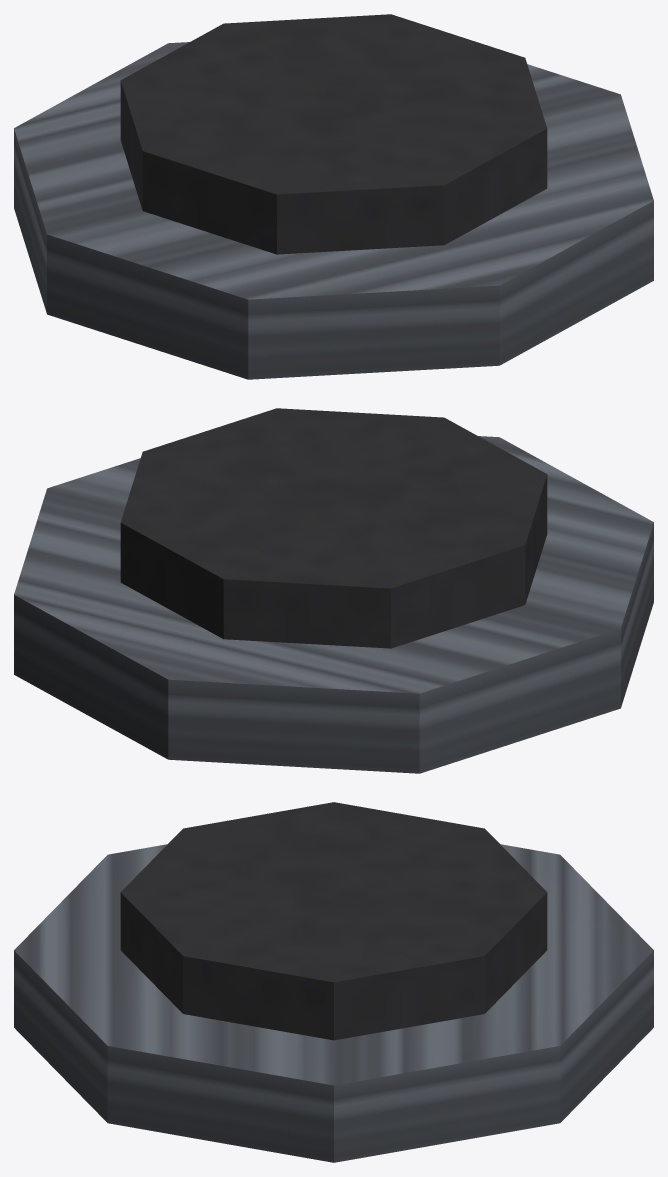
The model's file is floor_drain.fbx.
The picture shows the model from 3 angles, top to bottom: view 1: azimuth 30°, elevation 25°; view 2: azimuth 150°, elevation 25°; view 3: azimuth 270°, elevation 25°; orthographic projection. The views are drawn at different scales.
Visible parts, largest first — view 1: floor_drain; view 2: floor_drain; view 3: floor_drain.
Part boxes in pixels (<box>): floor_drain: <box>14,14,653,379</box>; floor_drain: <box>14,408,653,773</box>; floor_drain: <box>14,802,653,1162</box>.
Size of the model in its own units: 15 by 3.5 by 15.
